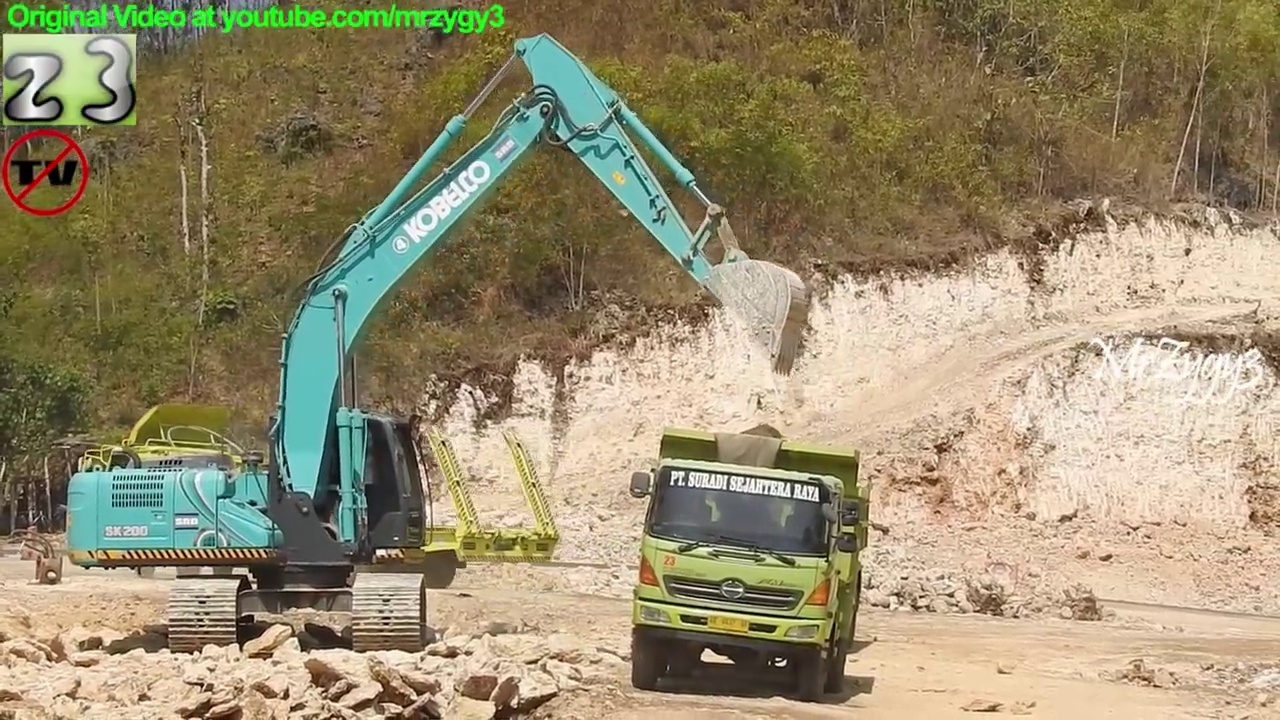excavator: (61, 27, 815, 657)
truck: (61, 399, 564, 599), (626, 423, 877, 703)
